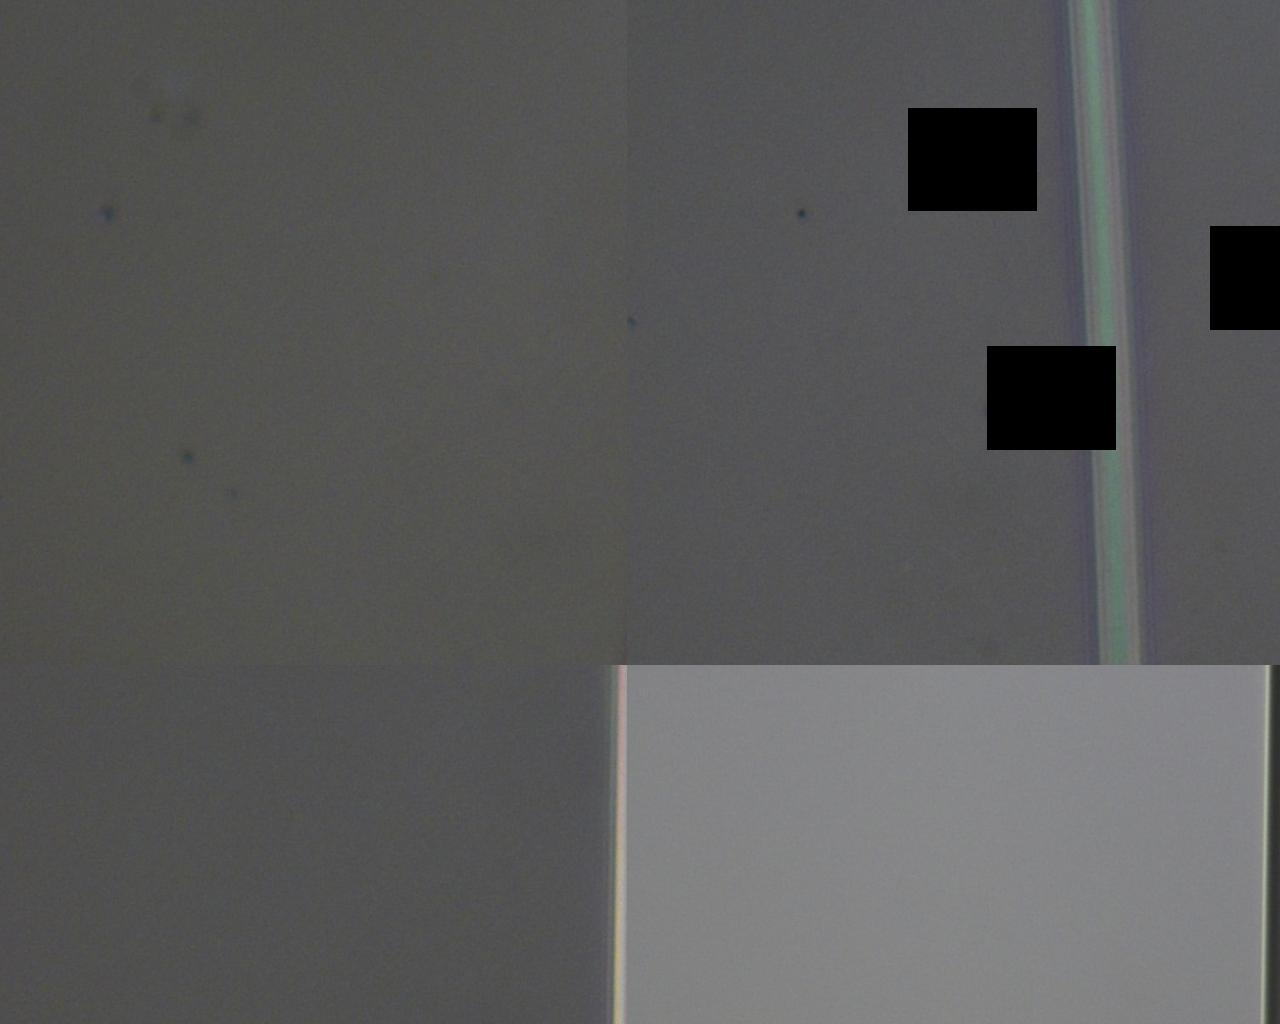fiber: (161, 0, 615, 634), (439, 634, 828, 1024), (1179, 634, 1280, 1024)
